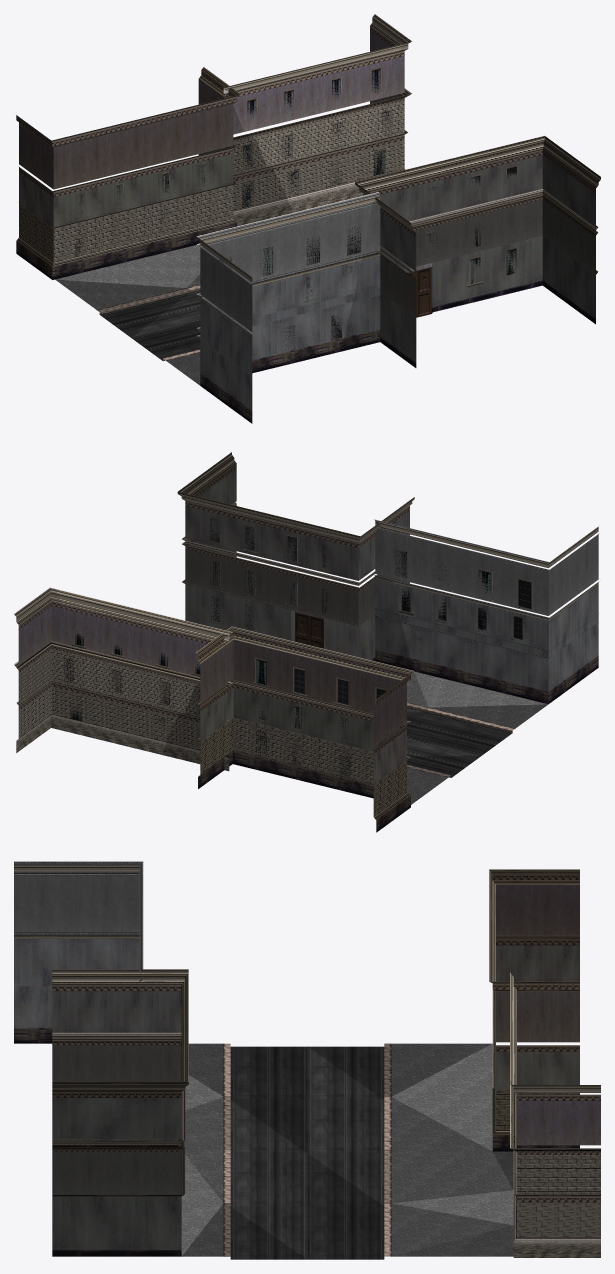
Rendered from primary_140.glb.
3 views of the same model, one above another, from view 1: azimuth 30°, elevation 25°; view 2: azimuth 150°, elevation 25°; view 3: azimuth 270°, elevation 25° (orthographic). The views are drawn at different scales.
Parts seen in each view (by area): view 1: Object; view 2: Object; view 3: Object.
Boxes of the visible parts, x1,y1,x2,y2 form: Object: [16, 14, 600, 423]; Object: [14, 452, 598, 832]; Object: [14, 861, 600, 1259].
Bounding box in the file's own units: 30.7 × 12.04 × 34.8.
Materials: 250 (250 with a texture image).
